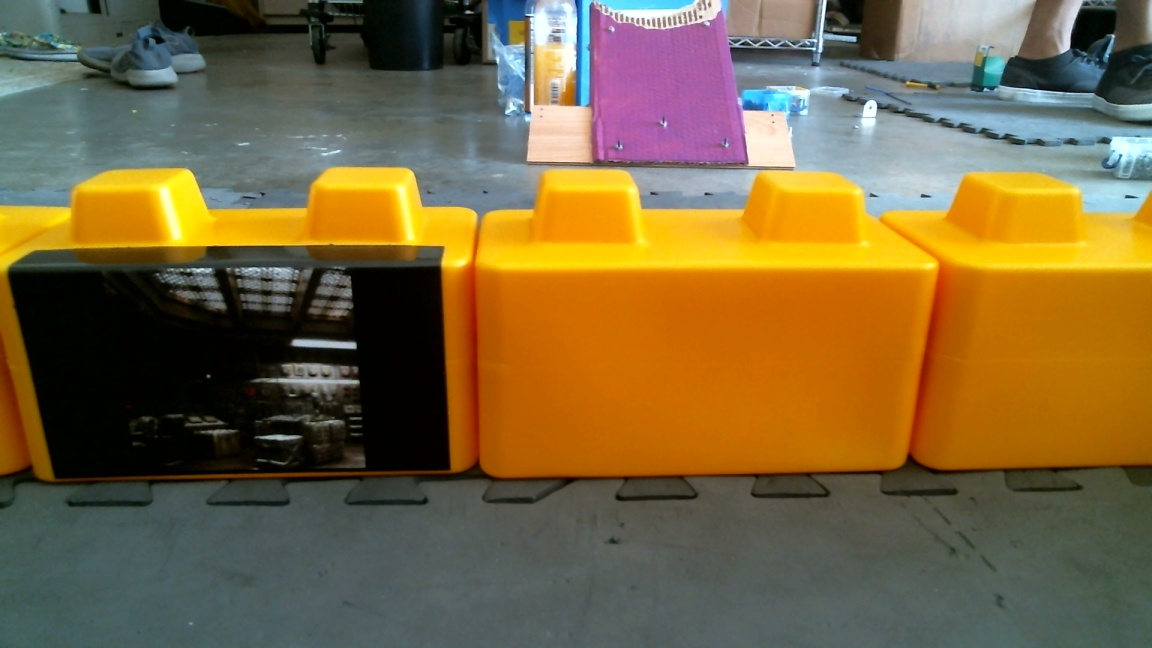left: (6, 171, 1152, 493)
